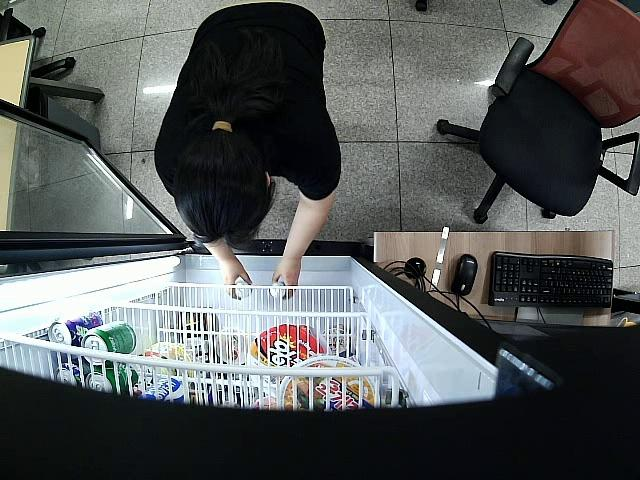00_hand: (216, 264, 254, 300), (271, 260, 305, 300)
